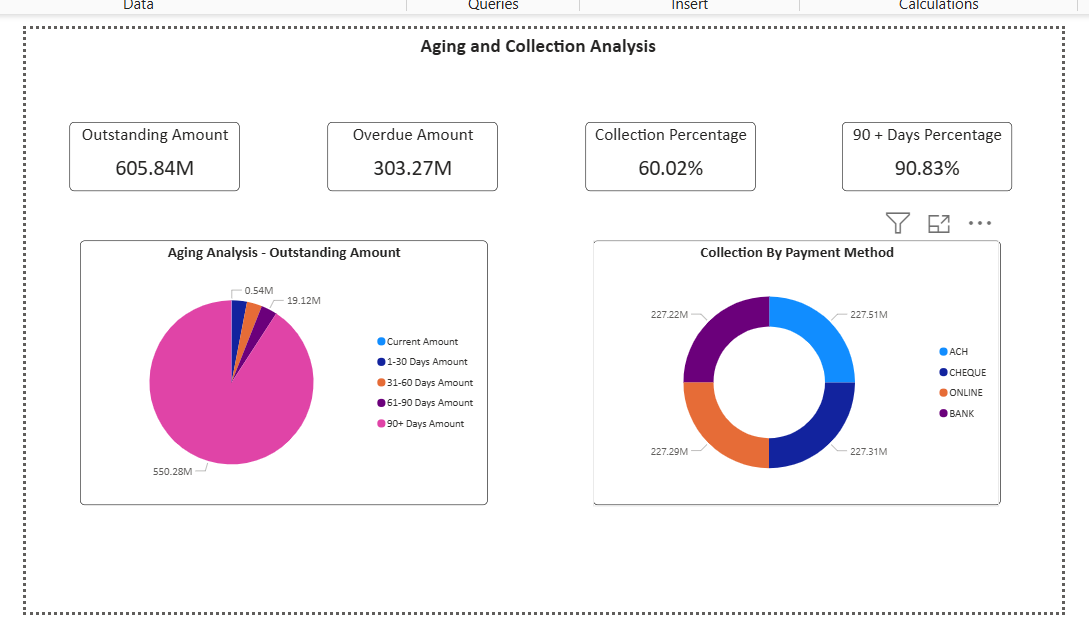

The page's visual inventory and layout, read from the dashboard file:
{"tool":"powerbi","page":{"name":"Aging & Collection Analysis","canvas":[1280,720],"ordinal":3},"visuals":[{"type":"card","title":"Outstanding Amount","fields":{"Values":["Table.Outstanding Amount"]},"box":[54.2,115.5,210,85],"z":0},{"type":"card","title":"Overdue Amount","fields":{"Values":["Table.Overdue amount"]},"box":[372.1,115.5,210,85],"z":1000},{"type":"card","title":"Collection Percentage","fields":{"Values":["Table.Collection %"]},"box":[690,115.5,210,85],"z":2000},{"type":"card","title":"90 + Days Percentage","fields":{"Values":["Table.90 + %"]},"box":[1007.9,115.5,210,85],"z":3000},{"type":"donutChart","title":"Collection By Payment Method","fields":{"Category":["AR_PAYMENTS.PAYMENT_METHOD"],"Y":["Table.Total paid amount"]},"box":[699.6,261.9,503,327],"z":4000},{"type":"textbox","box":[211,0,842.7,49.6],"z":5000},{"type":"pieChart","title":"Aging Analysis - Outstanding Amount","fields":{"Y":["Table.Current Amount","Table.1-30 Days Amount","Table.31-60 Days Amount","Table.61-90 Days Amount","Table.90+ Days Amount"]},"box":[66.3,261.9,503.2,327],"z":6000}]}

Visuals, with their boxes on the page's 1280x720 design canvas (x1, y1, x2, y2). These are canvas units, not pixel positions in the 1089x622 screenshot, which may show the page scaled, cropped or inside an application window:
"Outstanding Amount" card: 54, 116, 264, 200
"Overdue Amount" card: 372, 116, 582, 200
"Collection Percentage" card: 690, 116, 900, 200
"90 + Days Percentage" card: 1008, 116, 1218, 200
"Collection By Payment Method" donutChart: 700, 262, 1203, 589
textbox: 211, 0, 1054, 50
"Aging Analysis - Outstanding Amount" pieChart: 66, 262, 570, 589
